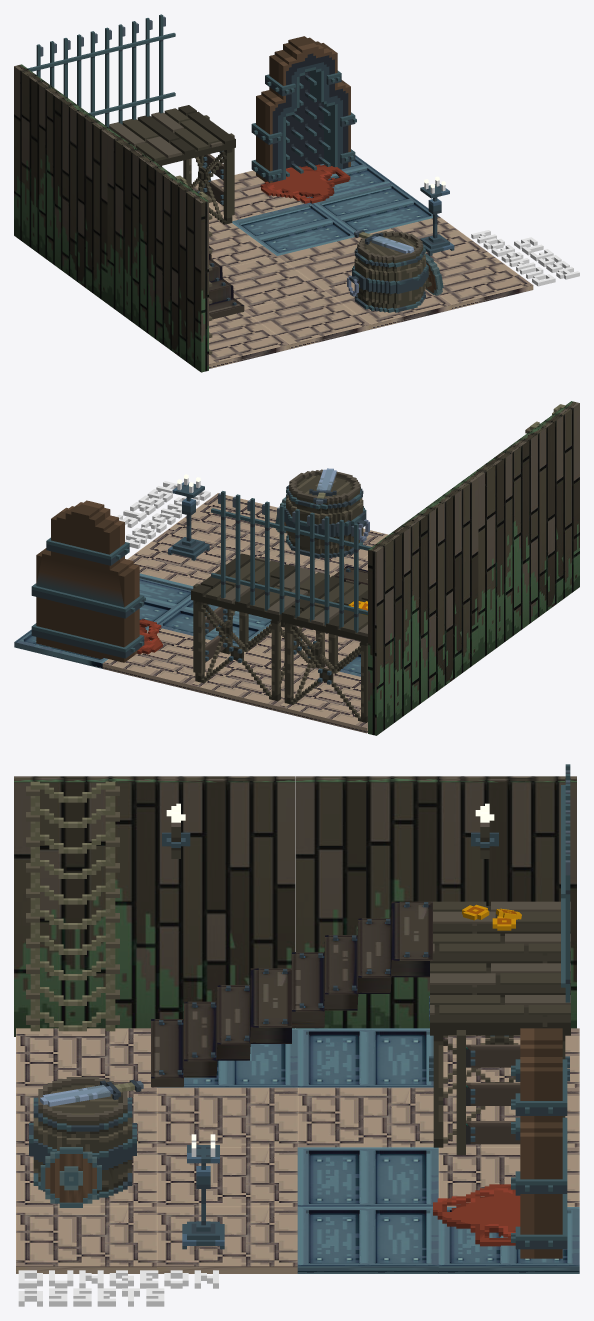
Rendered from dungeon.glb.
The picture shows the model from 3 angles, top to bottom: view 1: azimuth 30°, elevation 25°; view 2: azimuth 150°, elevation 25°; view 3: azimuth 270°, elevation 25°; orthographic projection. The views are drawn at different scales.
Visible parts, largest first — view 1: wall_V_opt, wall_V_opt_1, torture1_opt, barrel, planks1_1, floor_4_opt_1, floor_1_opt_10, floor_1_opt_11, floor_4_opt_3, floor_4_opt_1_5, metal_grid_1_1, floor_4_opt_0 (+15 smaller); view 2: wall_V_opt_1, wall_V_opt, torture1_opt, barrel, wood_stairs_I_1, planks1_1, metal_grid_1_1, metal_grid_1, floor_4_opt_1_13, wood_stairs_I, floor_4_opt_1_14, floor_4_opt_1_7 (+13 smaller); view 3: wall_V_opt, wall_V_opt_1, torture1_opt, floor_2_opt, floor_2_opt_1, planks1_1, floor_1_opt_11, floor_4_opt_3, floor_1_opt_10, floor_4_opt_1_5, floor_4_opt_1_9, floor_4_opt_1_7 (+25 smaller).
Boxes of the visible parts, x1=… form: wall_V_opt: x1=107, y1=133, x2=208, y2=372; wall_V_opt_1: x1=14, y1=64, x2=114, y2=303; torture1_opt: x1=251, y1=36, x2=356, y2=182; barrel: x1=347, y1=231, x2=428, y2=312; planks1_1: x1=109, y1=105, x2=235, y2=165; floor_4_opt_1: x1=244, y1=290, x2=370, y2=349; floor_1_opt_10: x1=232, y1=202, x2=354, y2=255; floor_1_opt_11: x1=314, y1=182, x2=438, y2=233; floor_4_opt_3: x1=436, y1=251, x2=533, y2=309; floor_4_opt_1_5: x1=222, y1=256, x2=323, y2=309; metal_grid_1_1: x1=93, y1=14, x2=175, y2=127; floor_4_opt_0: x1=209, y1=311, x2=289, y2=368; wall_V_opt_1: x1=368, y1=475, x2=478, y2=735; wall_V_opt: x1=470, y1=401, x2=579, y2=661; torture1_opt: x1=31, y1=500, x2=145, y2=662; barrel: x1=283, y1=469, x2=369, y2=558; wood_stairs_I_1: x1=195, y1=601, x2=324, y2=700; planks1_1: x1=191, y1=553, x2=329, y2=621; metal_grid_1_1: x1=211, y1=491, x2=300, y2=614; metal_grid_1: x1=285, y1=509, x2=371, y2=632; floor_4_opt_1_13: x1=190, y1=650, x2=319, y2=711; wood_stairs_I: x1=284, y1=623, x2=367, y2=722; floor_4_opt_1_14: x1=102, y1=628, x2=230, y2=690; floor_4_opt_1_7: x1=127, y1=530, x2=250, y2=585; wall_V_opt: x1=14, y1=776, x2=295, y2=1036; wall_V_opt_1: x1=295, y1=776, x2=576, y2=1028; torture1_opt: x1=511, y1=1028, x2=567, y2=1258; floor_2_opt: x1=292, y1=901, x2=432, y2=1027; floor_2_opt_1: x1=151, y1=968, x2=291, y2=1087; planks1_1: x1=430, y1=963, x2=570, y2=1035; floor_1_opt_11: x1=297, y1=1207, x2=438, y2=1273; floor_4_opt_3: x1=16, y1=1207, x2=156, y2=1273; floor_1_opt_10: x1=297, y1=1147, x2=438, y2=1206; floor_4_opt_1_5: x1=157, y1=1087, x2=297, y2=1147; floor_4_opt_1_9: x1=297, y1=1087, x2=433, y2=1147; floor_4_opt_1_7: x1=157, y1=1207, x2=297, y2=1273.
Bounding box in the file's own units: 4.04 × 1.9 × 3.47.
Materials: 7 (6 with a texture image).
